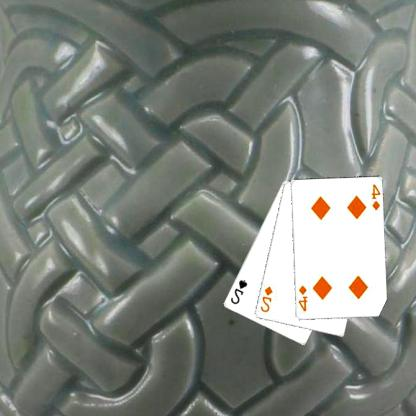2D: (260, 284, 276, 314)
2S: (230, 278, 250, 306)
4D: (370, 182, 383, 212), (298, 283, 310, 313)
